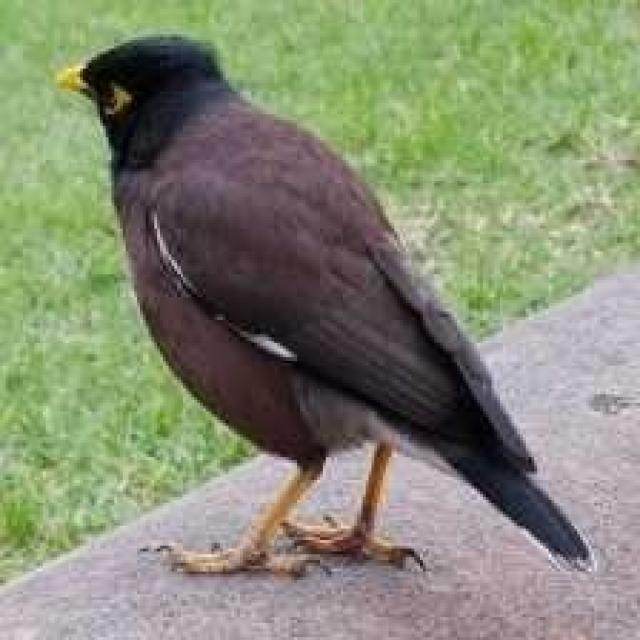bird: (48, 26, 601, 592)
